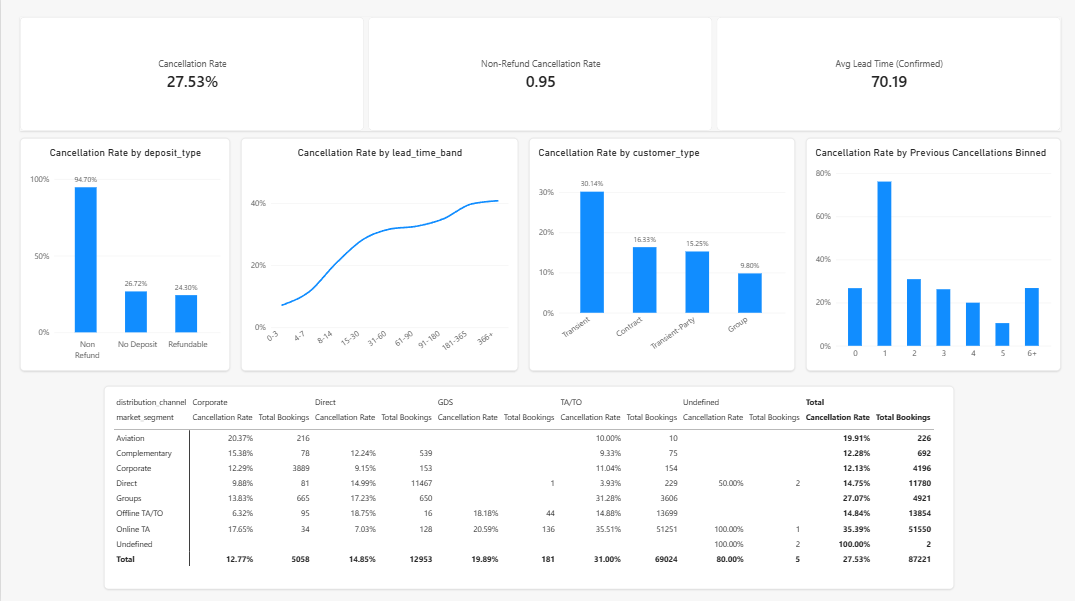

This screenshot's page, from the dashboard's own definition file:
{"tool":"powerbi","page":{"name":"Cancellation Trend","canvas":[1920,1080],"ordinal":1},"visuals":[{"type":"clusteredColumnChart","fields":{"Category":["dim_deposit_type.deposit_type"],"Y":["Measures (2).Cancellation Rate"]},"box":[33.9,250,375,416.1],"z":0},{"type":"lineChart","fields":{"Category":["Fact_bookings.lead_time_band"],"Y":["Measures (2).Cancellation Rate"]},"box":[428.6,250,494.6,416.1],"z":1000},{"type":"pivotTable","fields":{"Columns":["Fact_bookings.distribution_channel"],"Rows":["dim_market_segments.market_segment"],"Values":["Measures (2).Cancellation Rate","Measures (2).Total Bookings"]},"box":[183.9,692.9,1517.9,362.5],"z":1001},{"type":"clusteredColumnChart","fields":{"Category":["dim_customer_type.customer_type"],"Y":["Measures (2).Cancellation Rate"]},"box":[942.9,250,475,416.1],"z":1002},{"type":"cardVisual","fields":{"Data":["Measures (2).Cancellation Rate","Measures (2).Non-Refund Cancellation Rate","Measures (2).Avg Lead Time (Confirmed)"]},"box":[33.9,33.9,1858.9,203.6],"z":1003},{"type":"clusteredColumnChart","fields":{"Category":["Fact_bookings.Previous Cancellations Binned"],"Y":["Measures (2).Cancellation Rate"]},"box":[1437.5,250,455.4,416.1],"z":1004}]}

Visuals, with their boxes in screenshot pixels (x1, y1, x2, y2), scaled from the page's 1920x1080 canvas onto the 1075x601 screenshot:
clusteredColumnChart - dim_deposit_type.deposit_type x Measures (2).Cancellation Rate: (19, 139, 229, 371)
lineChart - Fact_bookings.lead_time_band x Measures (2).Cancellation Rate: (240, 139, 517, 371)
pivotTable - Fact_bookings.distribution_channel x dim_market_segments.market_segment: (103, 386, 953, 587)
clusteredColumnChart - dim_customer_type.customer_type x Measures (2).Cancellation Rate: (528, 139, 794, 371)
cardVisual - Measures (2).Cancellation Rate x Measures (2).Non-Refund Cancellation Rate: (19, 19, 1060, 132)
clusteredColumnChart - Fact_bookings.Previous Cancellations Binned x Measures (2).Cancellation Rate: (805, 139, 1060, 371)
